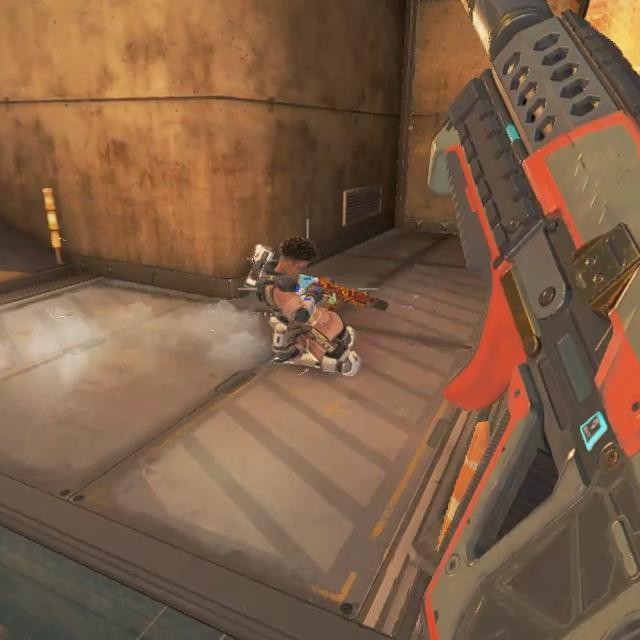avatar: (264, 236, 362, 379)
